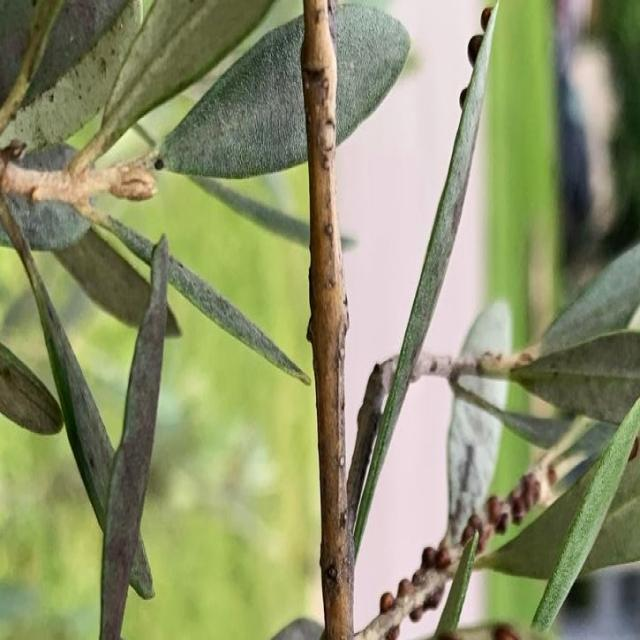Black Scale: (355, 453, 559, 639), (467, 0, 493, 68), (147, 153, 168, 171), (459, 83, 469, 108)
